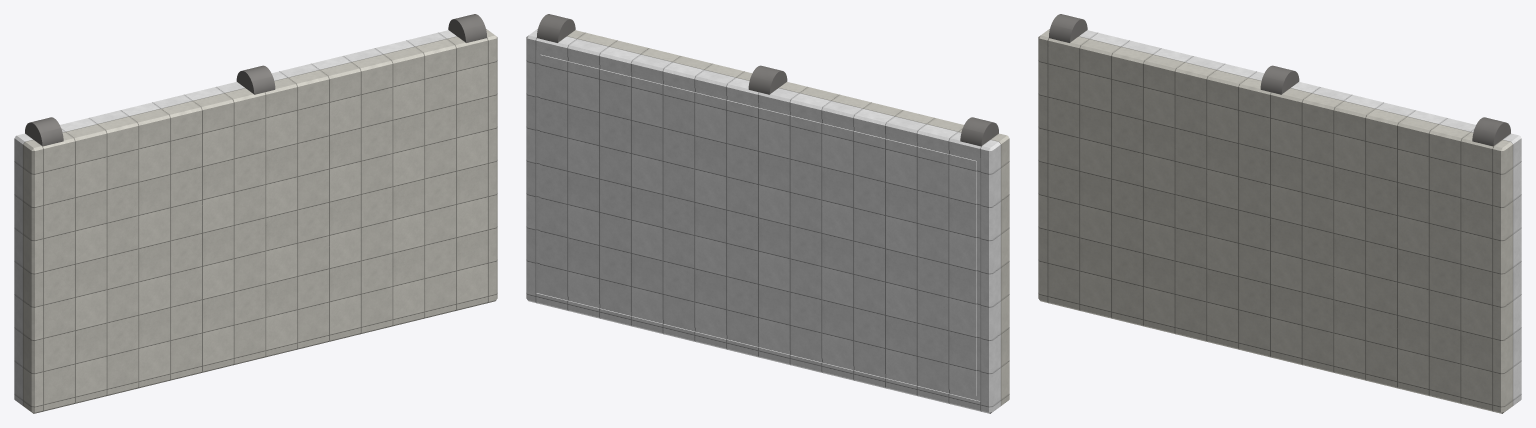
The model's file is ax_aero_26_csbf_body_flap_mk3.glb.
3 views of the same model, side by side, from view 1: azimuth 30°, elevation 25°; view 2: azimuth 150°, elevation 25°; view 3: azimuth 330°, elevation 25° (orthographic).
Parts seen in each view (by area): view 1: flap_top, flap_underside, hinge_fittings; view 2: flap_underside, flap_top, hinge_fittings; view 3: flap_top, flap_underside, hinge_fittings.
Part boxes in pixels (box(x1,y1,x2,y2)): flap_top: box(23, 29, 497, 413); flap_underside: box(14, 29, 486, 406); hinge_fittings: box(25, 14, 486, 146); flap_underside: box(526, 29, 1000, 413); flap_top: box(537, 29, 1009, 406); hinge_fittings: box(537, 14, 998, 146); flap_top: box(1038, 29, 1512, 413); flap_underside: box(1049, 29, 1521, 406); hinge_fittings: box(1049, 14, 1510, 146).
Bounding box in the file's own units: 2.2 × 1.27 × 0.16.
3 materials, 3 textured.
